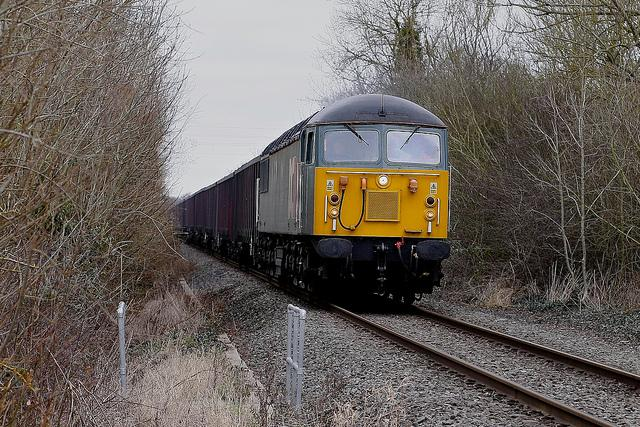Train: (172, 93, 450, 314)
